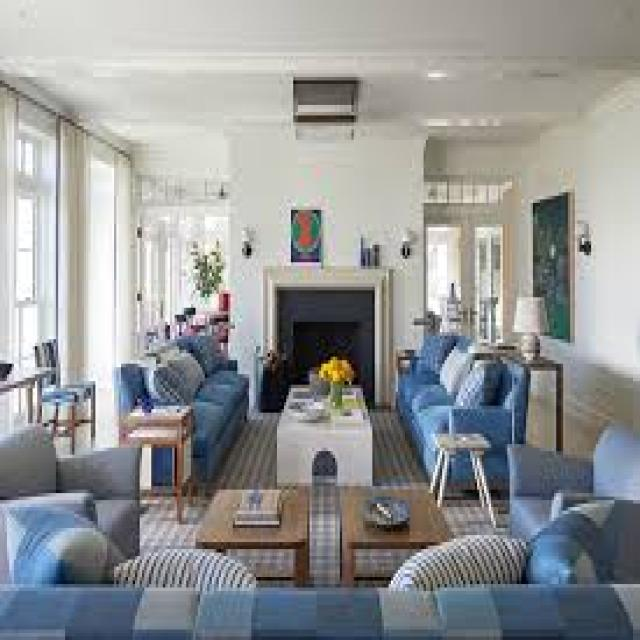Chair: (507, 423, 640, 549), (0, 445, 138, 557)
Lamp: (572, 208, 590, 257), (238, 217, 255, 264), (398, 218, 414, 264)
Sofa: (395, 334, 521, 496), (129, 339, 248, 477)
Table: (197, 481, 315, 582), (338, 478, 450, 575), (283, 374, 374, 479)
